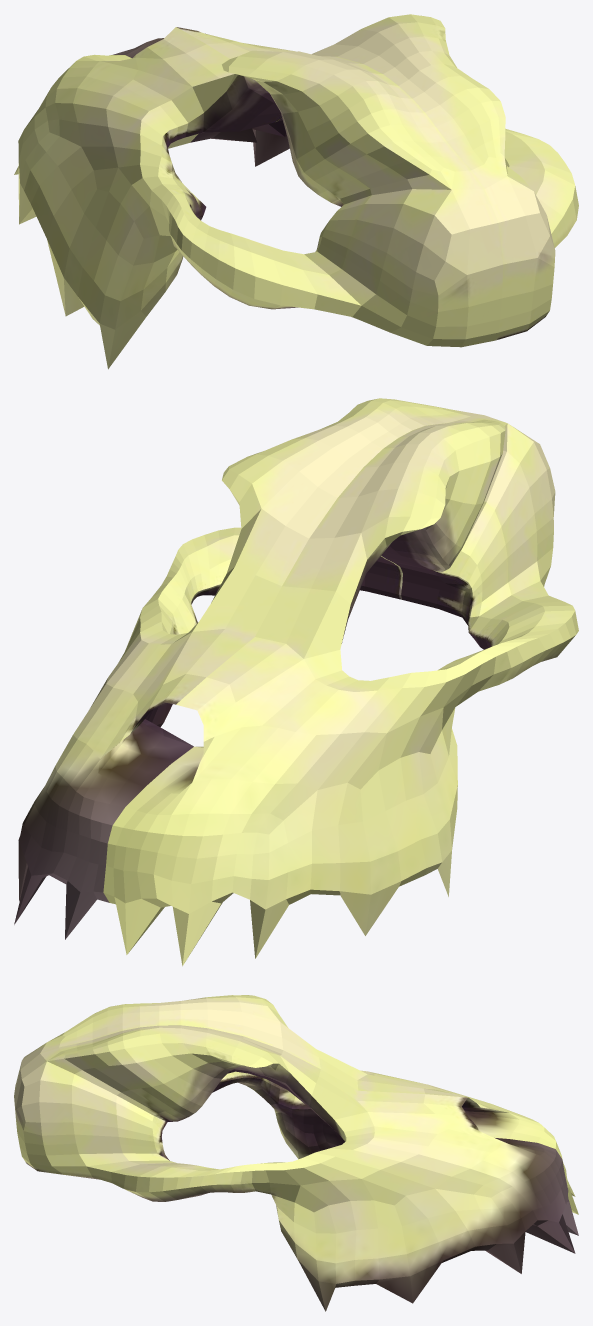
Rendered from Carcass_Skull_Cranium.fbx.
3 renders of one model, top to bottom at view 1: azimuth 30°, elevation 25°; view 2: azimuth 150°, elevation 25°; view 3: azimuth 270°, elevation 25°, orthographic. The views are drawn at different scales.
Visible parts, largest first — view 1: Cranium; view 2: Cranium; view 3: Cranium.
Part boxes in pixels (x1=…): Cranium: x1=14, y1=14, x2=578, y2=369; Cranium: x1=14, y1=398, x2=578, y2=966; Cranium: x1=14, y1=995, x2=578, y2=1311.
Bounding box in the file's own units: 0.5989 × 1.13 × 0.5251.
